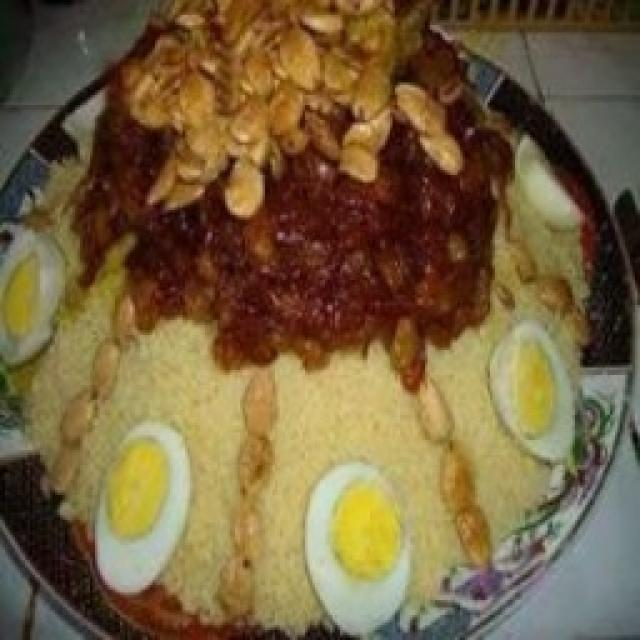Couscous: (0, 0, 618, 640)
